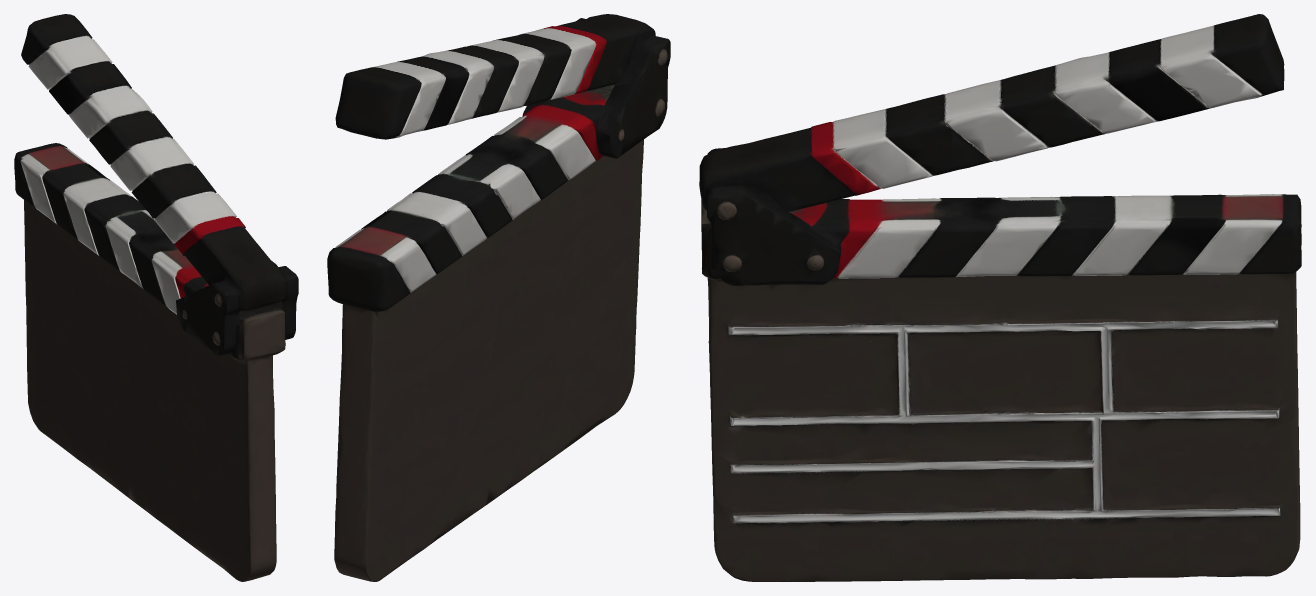
Rendered from clapper.glb.
3 renders of one model, left to right at view 1: azimuth 30°, elevation 25°; view 2: azimuth 150°, elevation 25°; view 3: azimuth 270°, elevation 25°, orthographic. The views are drawn at different scales.
Visible parts, largest first — view 1: tripo_node_cb871792-d0df-4c45-8010-399bb572e597; view 2: tripo_node_cb871792-d0df-4c45-8010-399bb572e597; view 3: tripo_node_cb871792-d0df-4c45-8010-399bb572e597.
Part boxes in pixels (x1,y1,x2,y2): tripo_node_cb871792-d0df-4c45-8010-399bb572e597: [14, 14, 298, 581]; tripo_node_cb871792-d0df-4c45-8010-399bb572e597: [327, 14, 670, 581]; tripo_node_cb871792-d0df-4c45-8010-399bb572e597: [699, 14, 1301, 581].
Size of the model in its own units: 0.2007 by 1 by 0.9945.
Materials: 1 (1 with a texture image).
